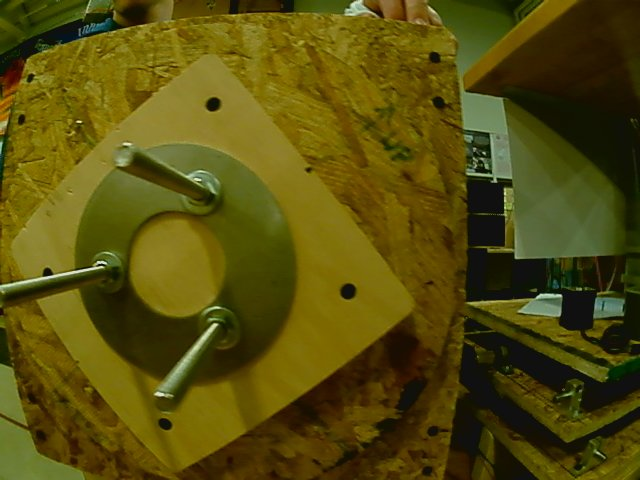bolt: (196, 304, 243, 355), (179, 169, 221, 216), (89, 249, 125, 299)
